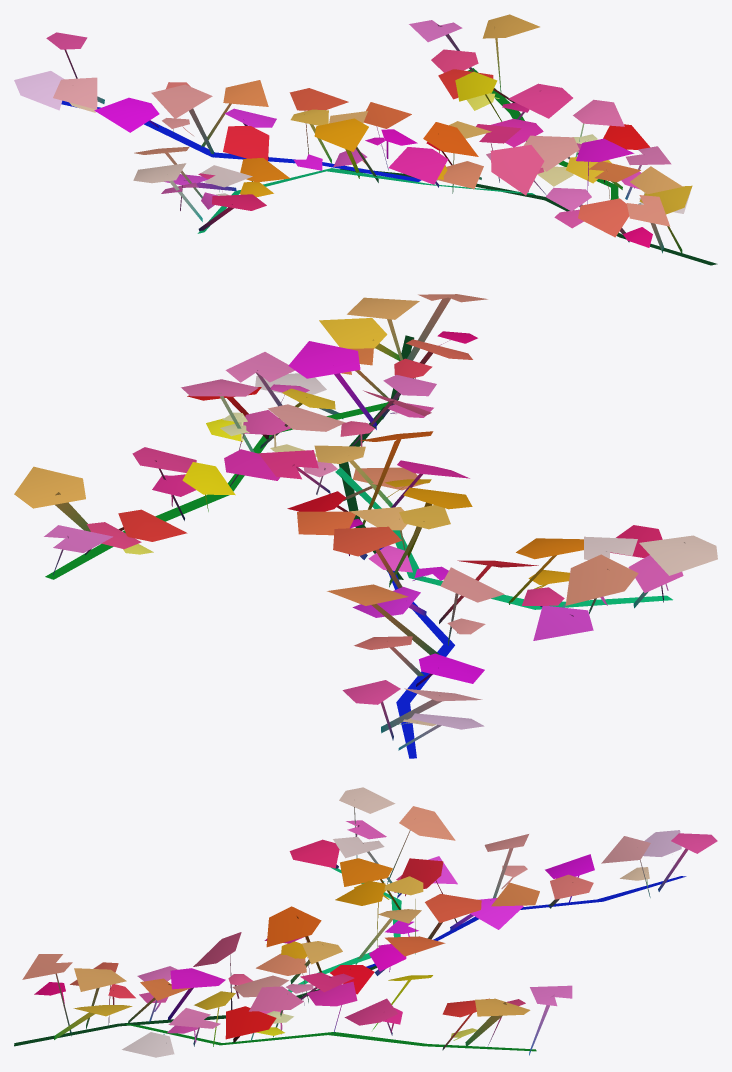
Rendered from English_Ivy_xfcnebhqx_Mid_xfcnebhqx_VarE_LOD2.fbx.
3 views of the same model, one above another, from view 1: azimuth 30°, elevation 25°; view 2: azimuth 150°, elevation 25°; view 3: azimuth 270°, elevation 25° (orthographic). The views are drawn at different scales.
Parts seen in each view (by area): view 1: _2a3x_VarE_LOD4; view 2: _2a3x_VarE_LOD4; view 3: _2a3x_VarE_LOD4.
Boxes of the visible parts, bbox=[...] form: _2a3x_VarE_LOD4: bbox=[14, 14, 717, 265]; _2a3x_VarE_LOD4: bbox=[14, 294, 717, 758]; _2a3x_VarE_LOD4: bbox=[14, 787, 717, 1057].
Bounding box in the file's own units: 85.64 × 12.15 × 112.
